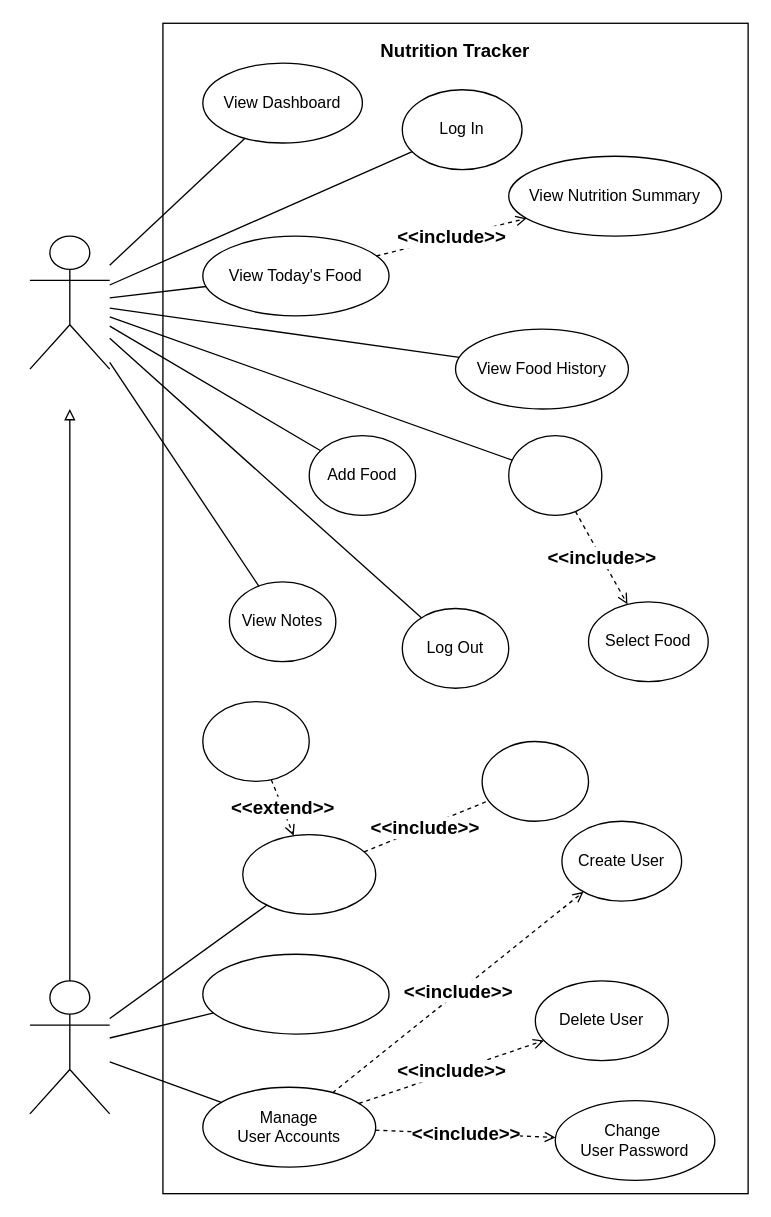
The diagram is 771 pixels wide and 1217 high, and some of its shapes have lost their labels. Here are the shapes that lost their labels. From the top down, the box of each, then its label:
(29, 235, 110, 369): User
(507, 434, 602, 515): Log Food
(201, 700, 309, 781): Add Note
(481, 740, 589, 821): View All Users
(241, 833, 376, 914): View User Details
(201, 953, 389, 1034): View Admin Dashboard
(29, 980, 110, 1114): Administrator
